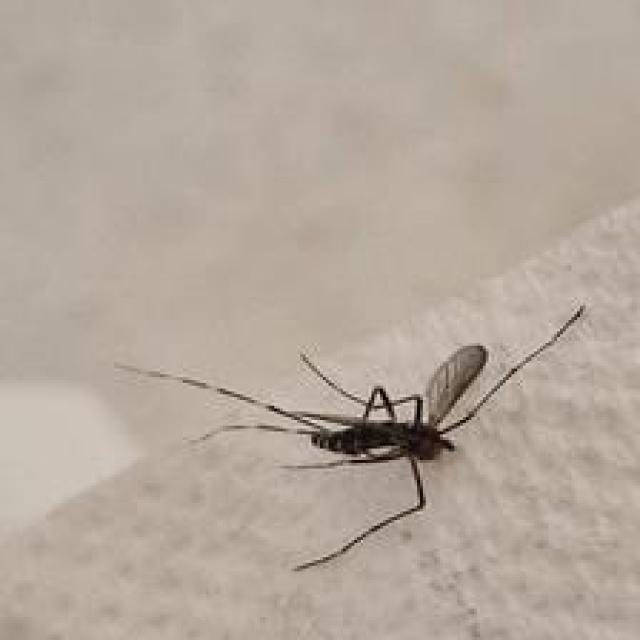Aedes albopictus: (113, 301, 587, 573)
